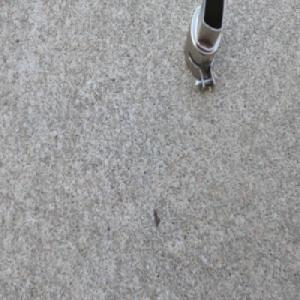MetalPart: (181, 0, 224, 98)
